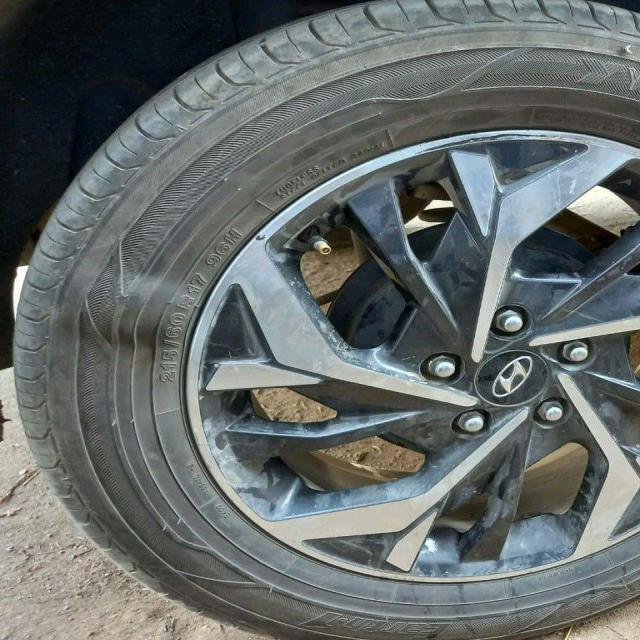Bulge: (64, 264, 192, 352)
